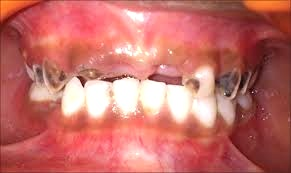Caries: (172, 64, 263, 97), (27, 62, 125, 90)
